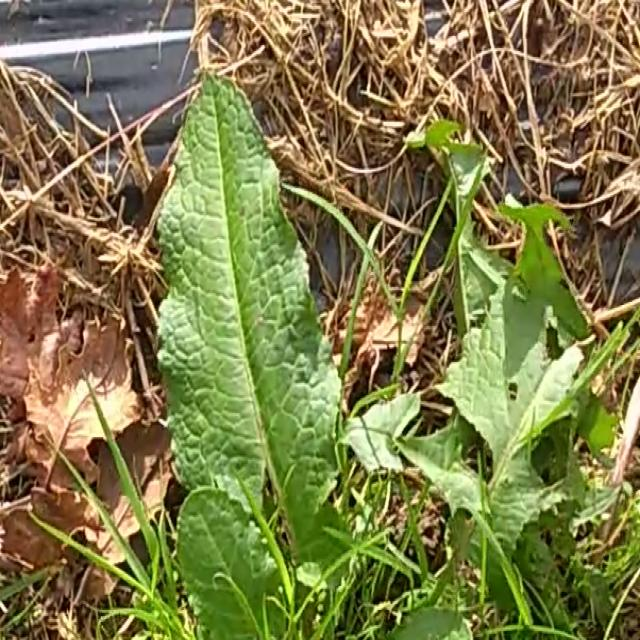organic waste: (121, 61, 557, 640)
